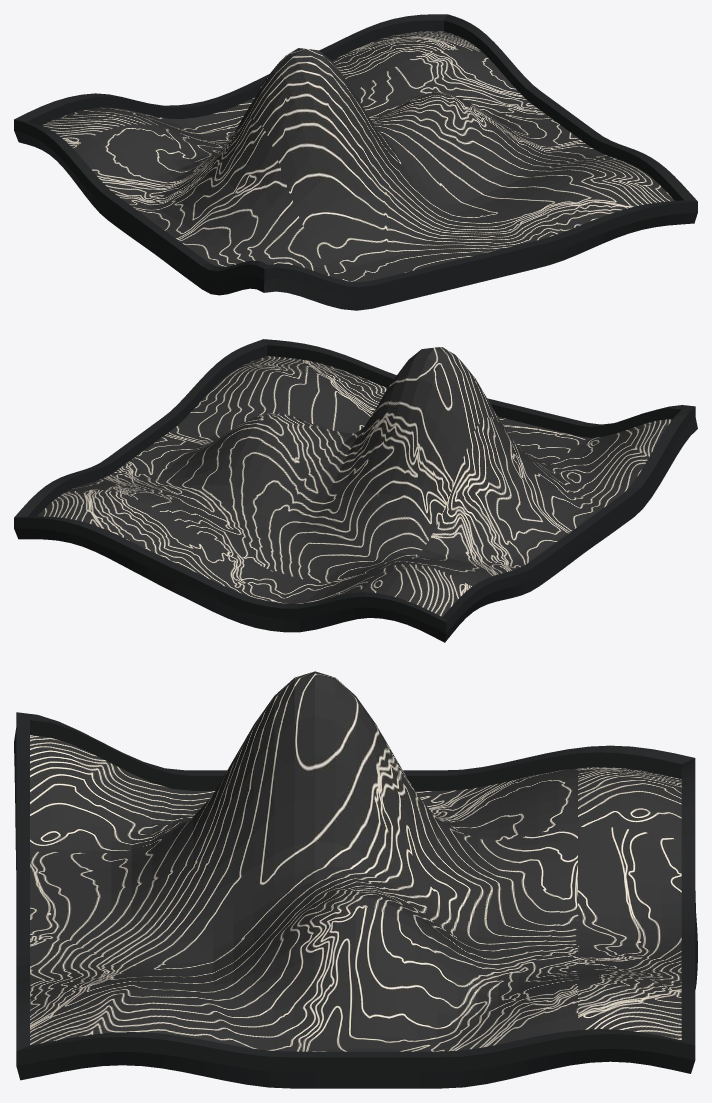
Rendered from Topographical_Terrain.fbx.
3 renders of one model, top to bottom at view 1: azimuth 30°, elevation 25°; view 2: azimuth 150°, elevation 25°; view 3: azimuth 270°, elevation 25°, orthographic. The views are drawn at different scales.
Visible parts, largest first — view 1: Topology_Map; view 2: Topology_Map; view 3: Topology_Map.
Part boxes in pixels (box(x1,y1,x2,y2)): Topology_Map: box(14, 14, 697, 310); Topology_Map: box(14, 339, 697, 642); Topology_Map: box(14, 671, 697, 1088).
Bounding box in the file's own units: 17.64 × 7.32 × 17.71.
